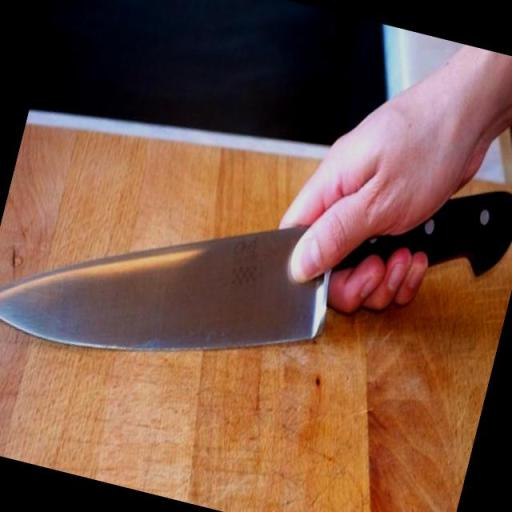knife: (0, 41, 464, 439)
